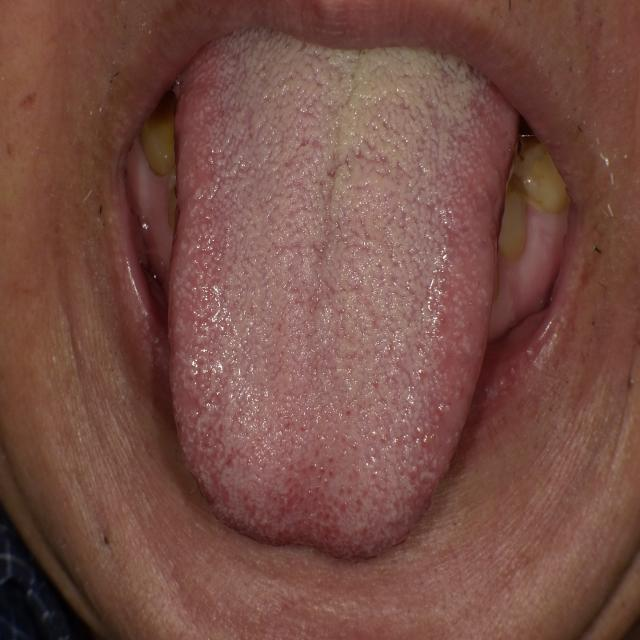hongdianshe: (343, 408, 352, 417)
huangtaishe: (165, 24, 517, 558)
